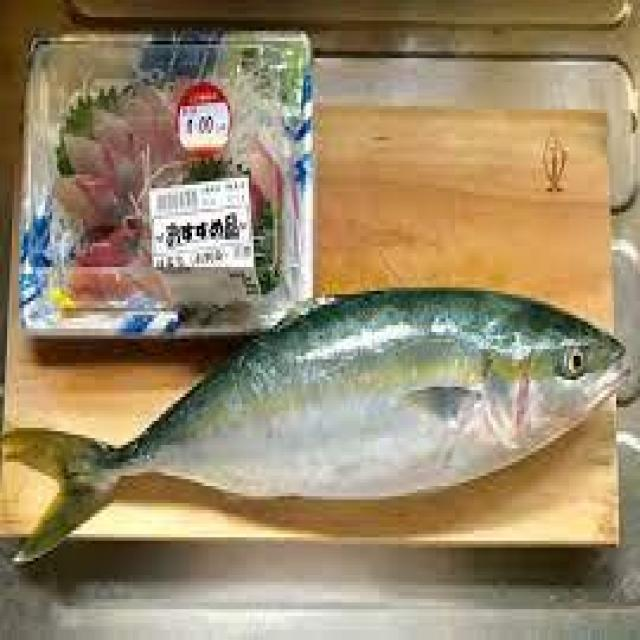Kingfish: (0, 279, 631, 618)
